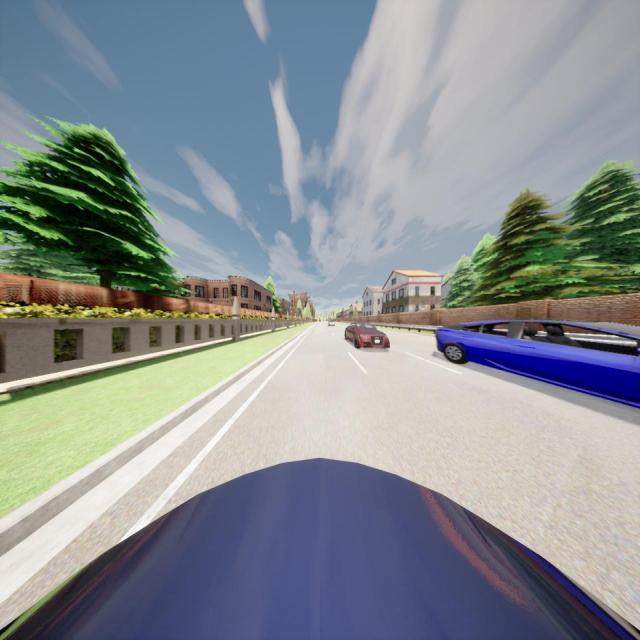Vehicle: (0, 455, 640, 640), (435, 314, 640, 406), (344, 322, 390, 348), (328, 319, 335, 327)
